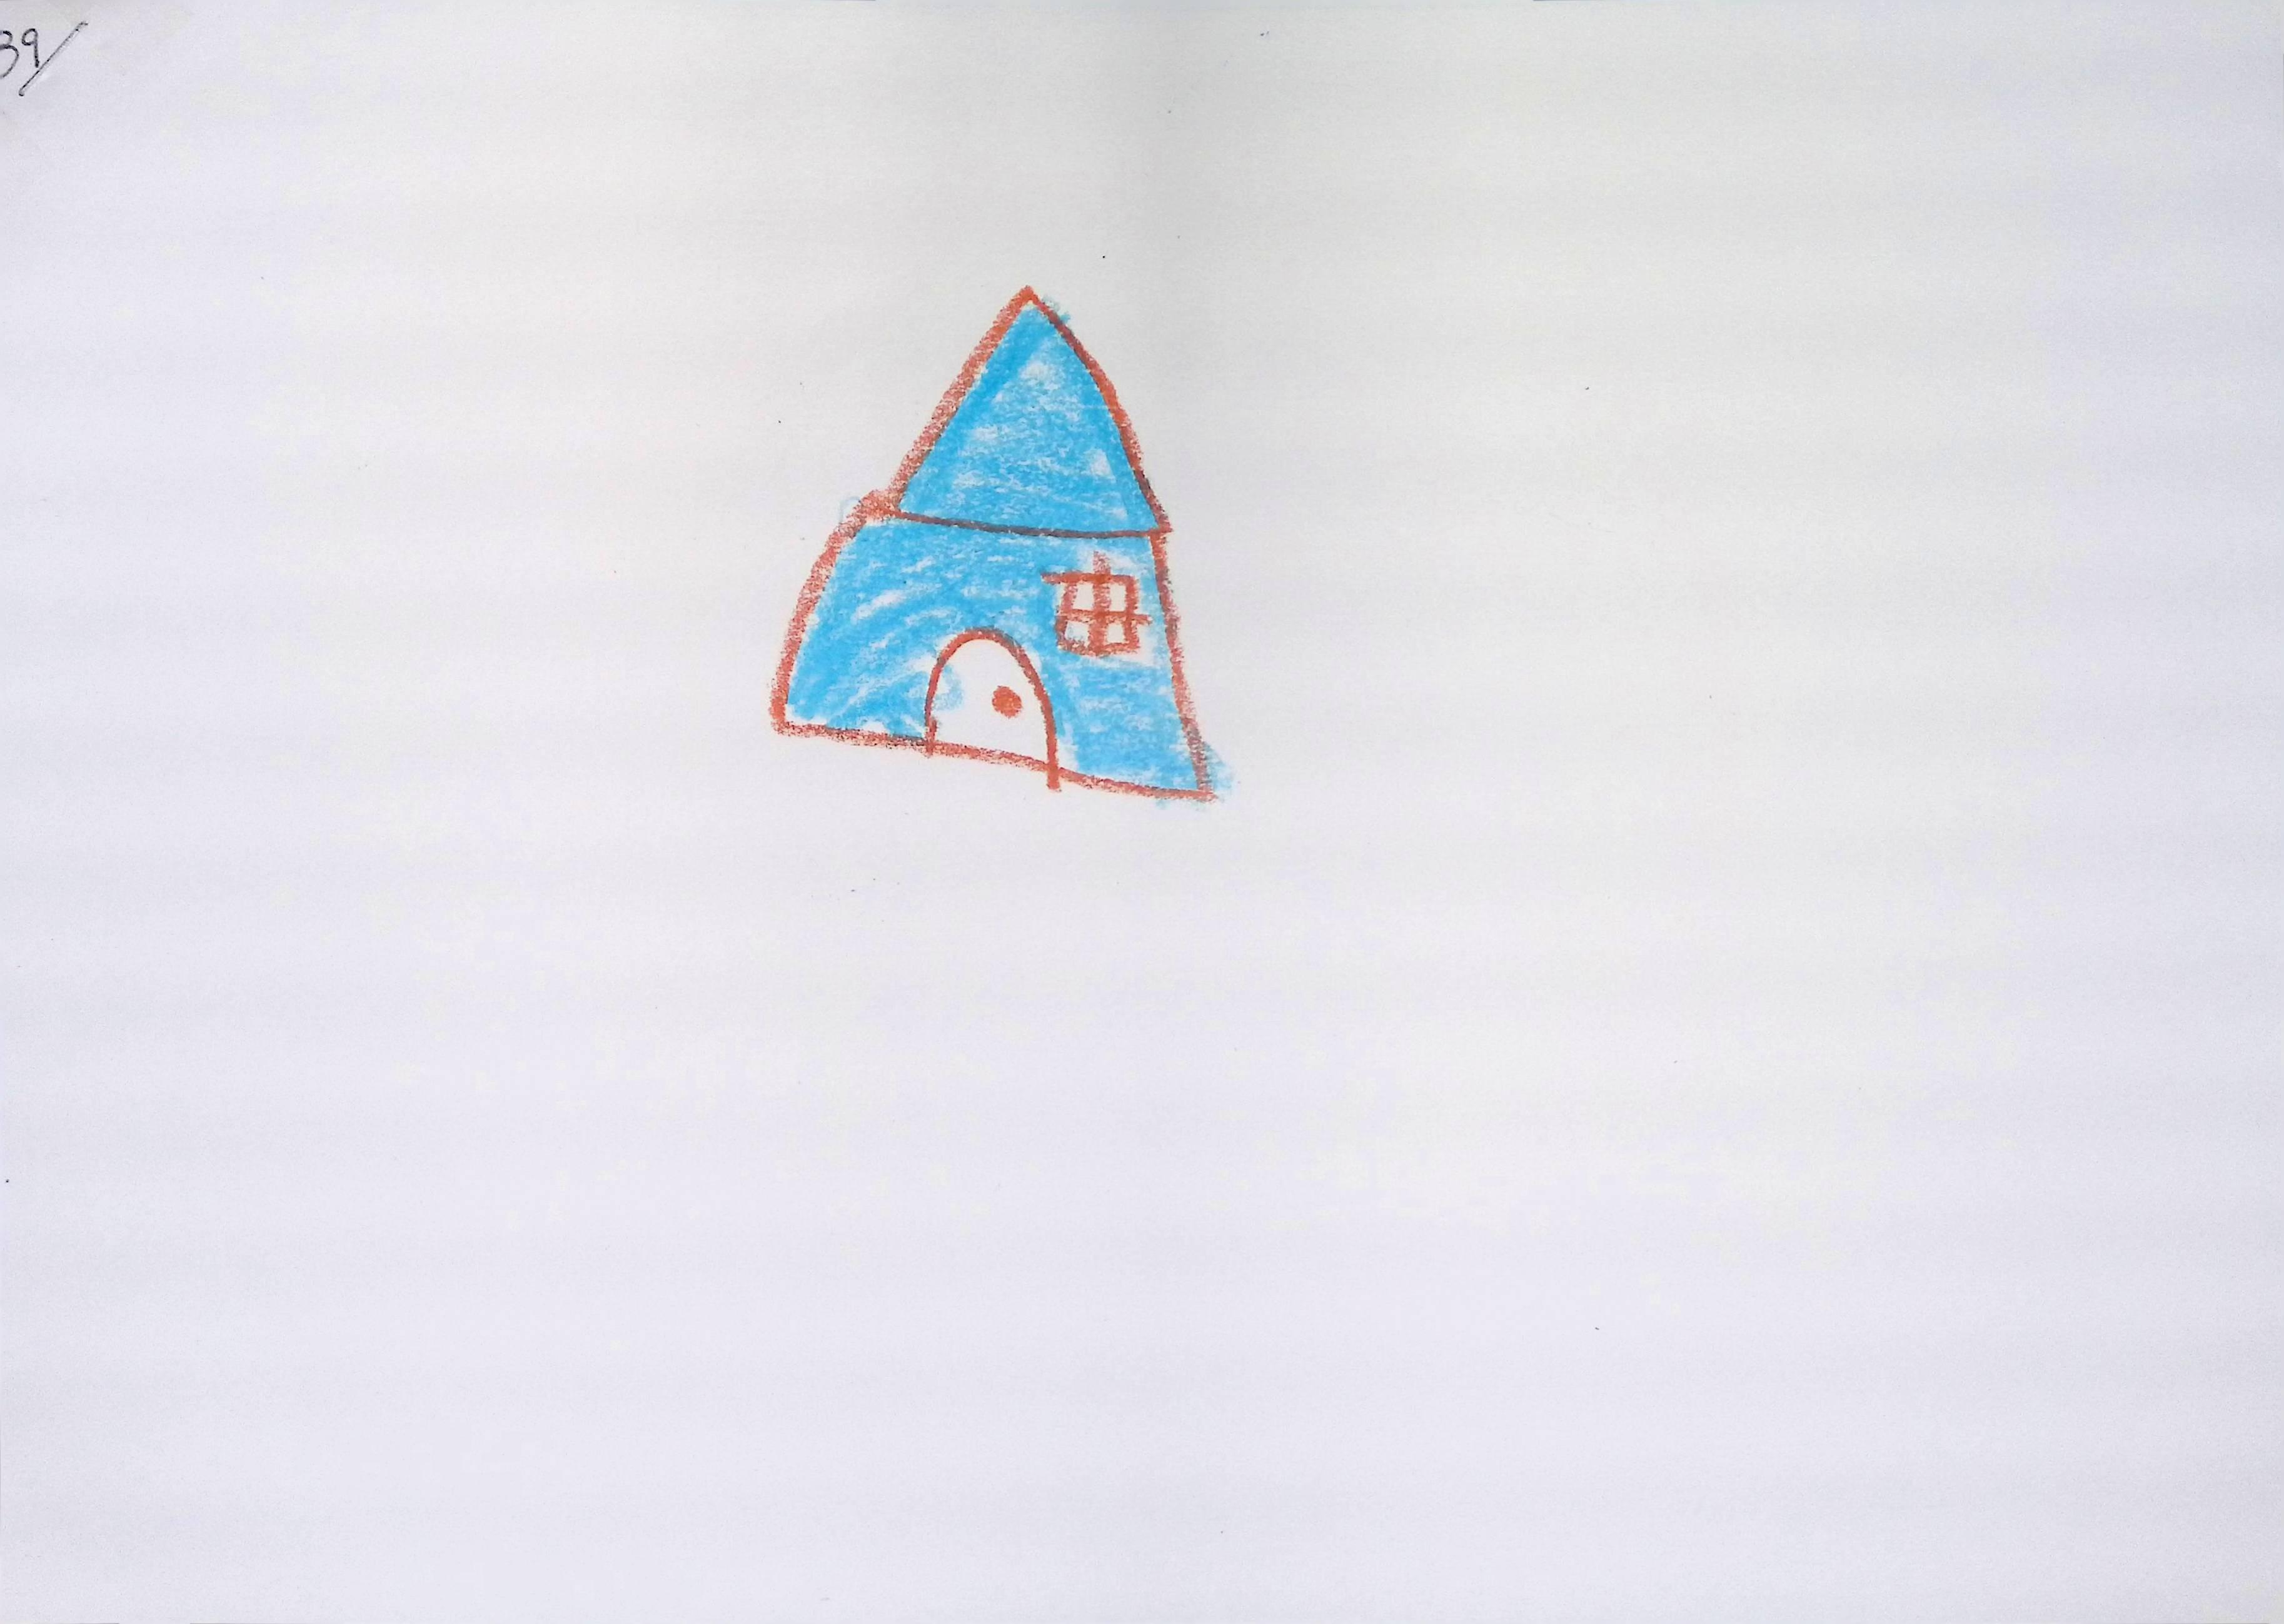door: (927, 627, 1057, 766)
house: (770, 286, 1215, 798)
roof: (877, 276, 1178, 545)
wall: (768, 508, 1222, 803)
window: (1043, 550, 1150, 656)
